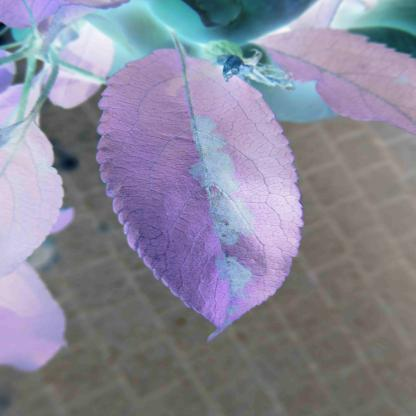apple scab leaf: (97, 45, 318, 343)
